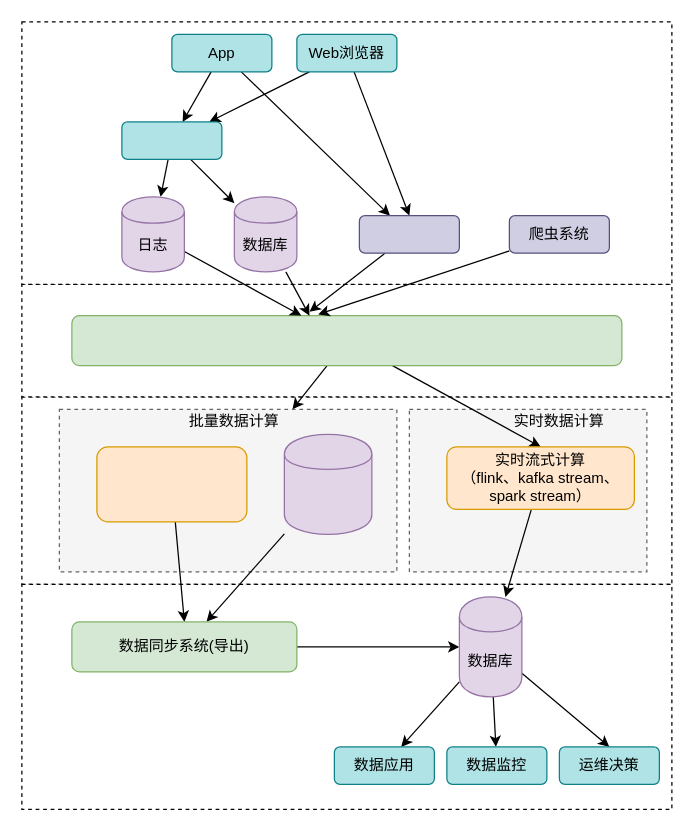
Some shapes in this 694 by 831 pixel diagram are drawn without their labels. The shapes that lost their labels are listed below. From the top down, each one's box as (x1, y1, x2, y2) in pixels, then its label:
(121, 121, 222, 159): 后台服务
(358, 214, 459, 253): 打点收集
(71, 314, 622, 366): 数据同步系统
(96, 446, 247, 522): 大数据批量计算 （MapReduce、Spark、Live）
(283, 433, 372, 534): 大数据存储 HDFS
